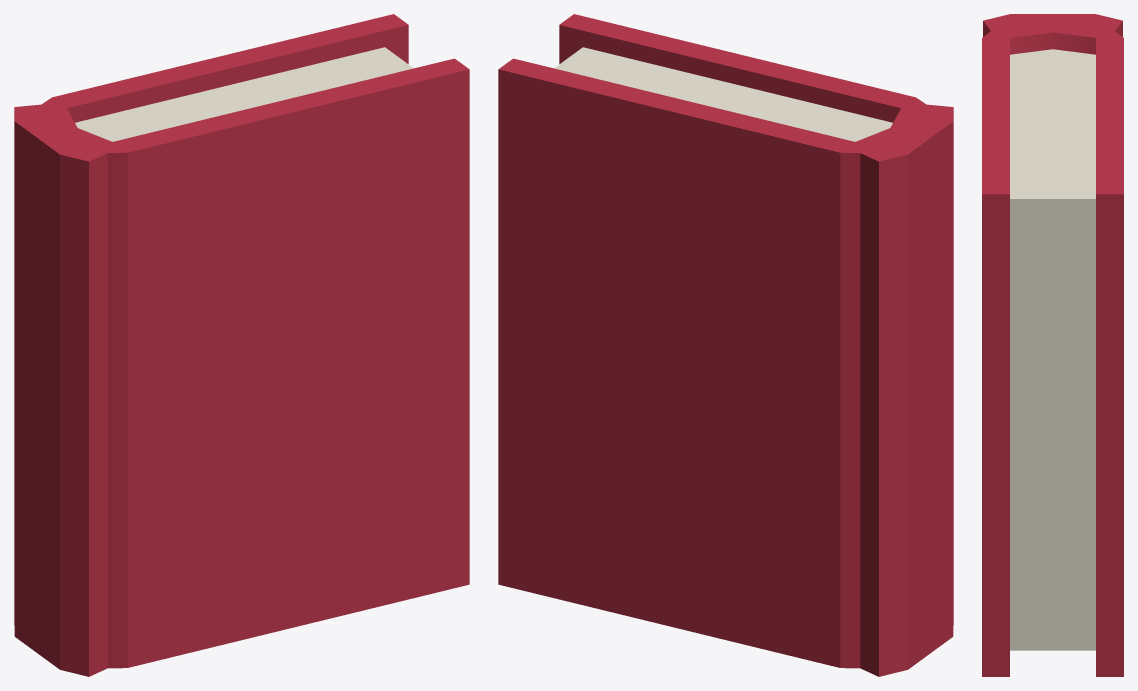
Rendered from book.fbx.
The picture shows the model from 3 angles, left to right: view 1: azimuth 30°, elevation 25°; view 2: azimuth 150°, elevation 25°; view 3: azimuth 270°, elevation 25°; orthographic projection. The views are drawn at different scales.
Parts seen in each view (by area): view 1: pCube275; view 2: pCube275; view 3: pCube275.
Boxes of the visible parts, left/top/right/bottom form: pCube275: left=14, top=14, right=469, bottom=676; pCube275: left=498, top=14, right=953, bottom=676; pCube275: left=982, top=14, right=1123, bottom=676.
Size of the model in its own units: 0.2237 by 0.2793 by 0.0743.
